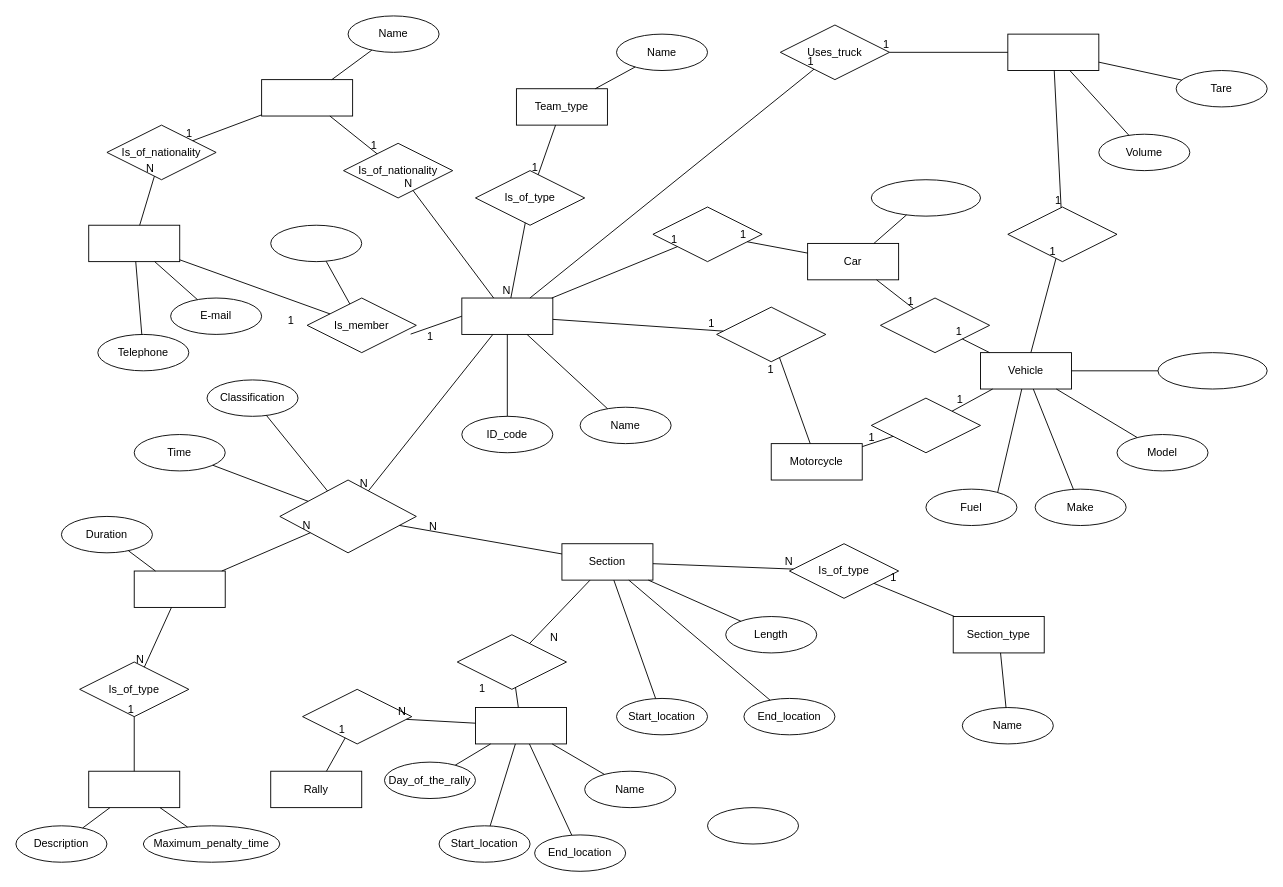
The diagram is 1283 pixels wide and 887 high, and some of its shapes have lost their labels. Each missing label, with the centre of its shape:
Has_section: pixel 511 661
Has_stage: pixel 357 716
Is_car: pixel 935 325
Is_motorcycle: pixel 925 425
Is_truck: pixel 1062 234
Motor_displacement: pixel 1212 370
Nationality: pixel 307 97
Number_of_cylinders: pixel 925 197
Participates_in_section: pixel 347 516
Penalty_type: pixel 134 789
Person: pixel 134 243
Role: pixel 316 243
Stage: pixel 520 725
Team: pixel 507 315
Team_penalty: pixel 179 588
Test: pixel 753 825
Truck: pixel 1053 52
Uses_car: pixel 707 234
Uses_motorcycle: pixel 771 334
